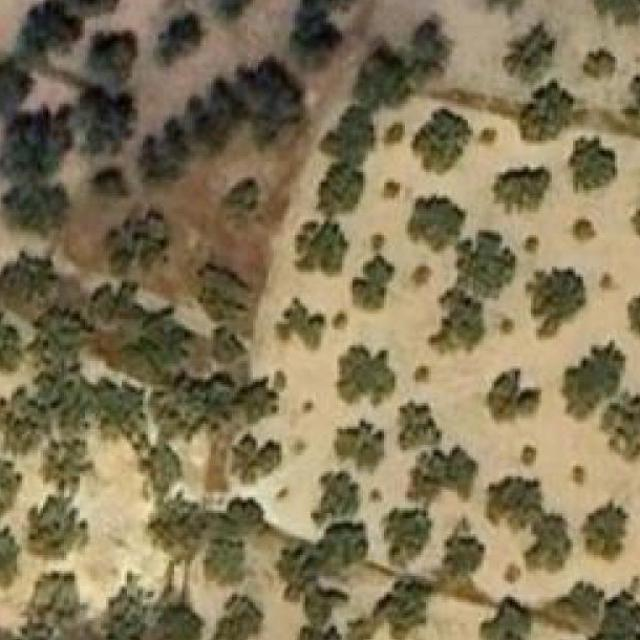Tree: (134, 366, 223, 443), (342, 574, 436, 640), (554, 322, 625, 406), (287, 0, 379, 60), (400, 440, 480, 508), (7, 567, 80, 640), (239, 59, 313, 130), (99, 206, 169, 277), (522, 267, 588, 342), (172, 83, 240, 155), (414, 101, 480, 171), (0, 104, 67, 172), (315, 107, 384, 173), (89, 571, 155, 640), (147, 492, 214, 559), (20, 484, 85, 553), (449, 230, 512, 301), (218, 432, 284, 498), (500, 12, 568, 76), (196, 497, 269, 556), (132, 312, 197, 378), (268, 295, 332, 362), (83, 28, 134, 110), (424, 298, 484, 367), (334, 254, 396, 317), (10, 172, 74, 233), (520, 76, 580, 138), (400, 191, 460, 252), (12, 2, 72, 63), (479, 364, 538, 426), (489, 474, 547, 536), (326, 417, 389, 472), (151, 12, 208, 72), (555, 136, 610, 198), (78, 91, 134, 151), (594, 394, 640, 467), (82, 380, 143, 435), (128, 444, 182, 506), (526, 508, 572, 580), (404, 12, 454, 78), (0, 251, 59, 306), (577, 499, 625, 566), (549, 576, 606, 631), (46, 372, 98, 432), (491, 165, 554, 213), (582, 586, 638, 640), (41, 309, 95, 365), (133, 130, 182, 191), (291, 581, 347, 634), (376, 503, 428, 560), (359, 36, 410, 94), (314, 516, 368, 570), (87, 282, 140, 337), (432, 521, 484, 576), (196, 261, 253, 311), (346, 348, 395, 406), (284, 216, 348, 258), (394, 398, 439, 454), (308, 471, 360, 517), (210, 597, 265, 640), (34, 443, 85, 489), (0, 389, 46, 440), (234, 377, 281, 426), (87, 161, 132, 210), (0, 43, 36, 104), (151, 599, 204, 640), (52, 0, 134, 26), (270, 550, 316, 596), (198, 540, 244, 586), (321, 167, 366, 214), (485, 597, 533, 640), (220, 172, 262, 221), (210, 322, 251, 368), (0, 310, 25, 381), (586, 41, 622, 83), (566, 216, 604, 252), (622, 65, 640, 137), (590, 0, 640, 23), (210, 0, 260, 21), (630, 274, 640, 341), (518, 233, 538, 256), (630, 206, 640, 234)
